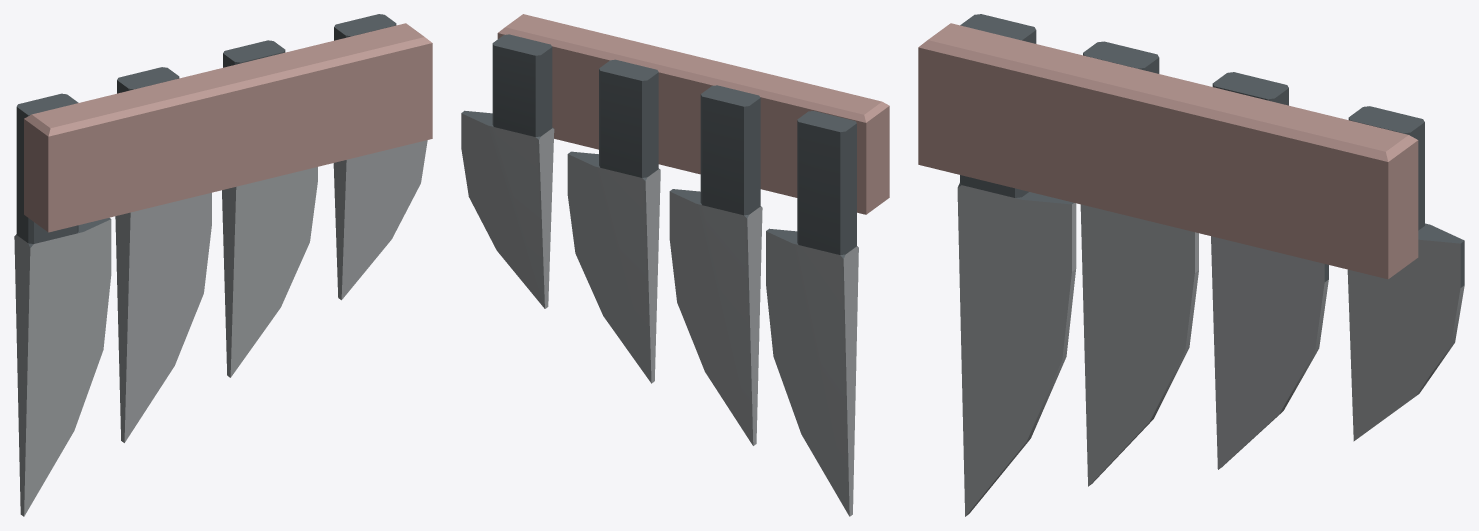
File: PRP_HangingKnvies.fbx
3 renders of one model, left to right at view 1: azimuth 30°, elevation 25°; view 2: azimuth 150°, elevation 25°; view 3: azimuth 330°, elevation 25°, orthographic. The views are drawn at different scales.
Visible parts, largest first — view 1: polySurface67, knife4, knife3, knife2, knife1; view 2: knife4, polySurface67, knife3, knife2, knife1; view 3: polySurface67, knife4, knife3, knife2, knife1.
Part boxes in pixels (left/top/right/bottom): polySurface67: left=24, top=23, right=432, bottom=232; knife4: left=14, top=93, right=111, bottom=516; knife3: left=115, top=67, right=211, bottom=442; knife2: left=222, top=40, right=317, bottom=377; knife1: left=333, top=14, right=427, bottom=300; knife4: left=766, top=111, right=858, bottom=516; polySurface67: left=497, top=14, right=889, bottom=214; knife3: left=669, top=85, right=762, bottom=445; knife2: left=567, top=59, right=660, bottom=383; knife1: left=461, top=34, right=554, bottom=308; polySurface67: left=918, top=23, right=1418, bottom=279; knife4: left=957, top=14, right=1076, bottom=516; knife3: left=1080, top=41, right=1198, bottom=486; knife2: left=1211, top=72, right=1328, bottom=469; knife1: left=1347, top=106, right=1464, bottom=441.
Size of the model in its own units: 1.27 by 1.21 by 0.2194.
